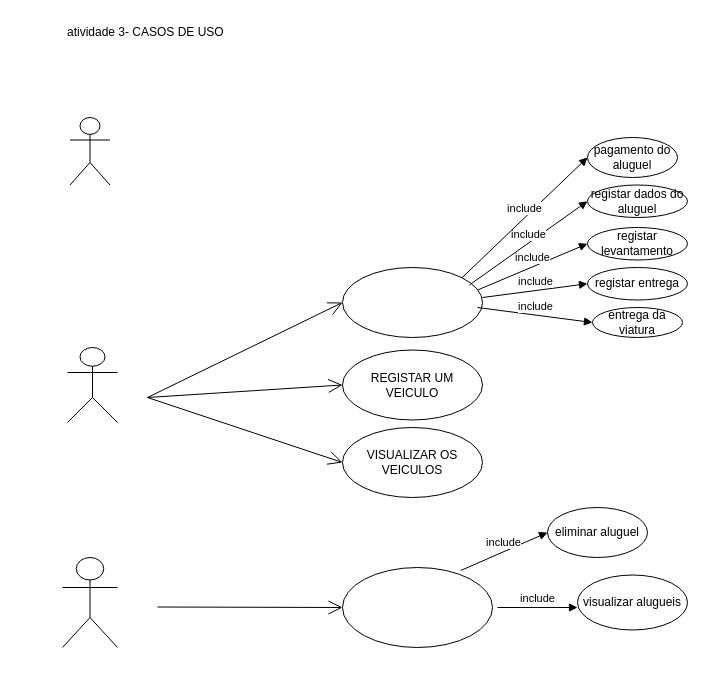
The diagram is 705 pixels wide and 685 high, and some of its shapes have lost their labels. The centre of each missing label's shape, as x and y in pixels:
"cliente" goes at point (89, 150).
"funcionario" goes at point (92, 384).
"GERIR ALUGUEIS PROCESSADOS" goes at point (417, 607).
"REGISTAR O ALUGUEL" goes at point (412, 302).
"supervisor" goes at point (90, 602).
